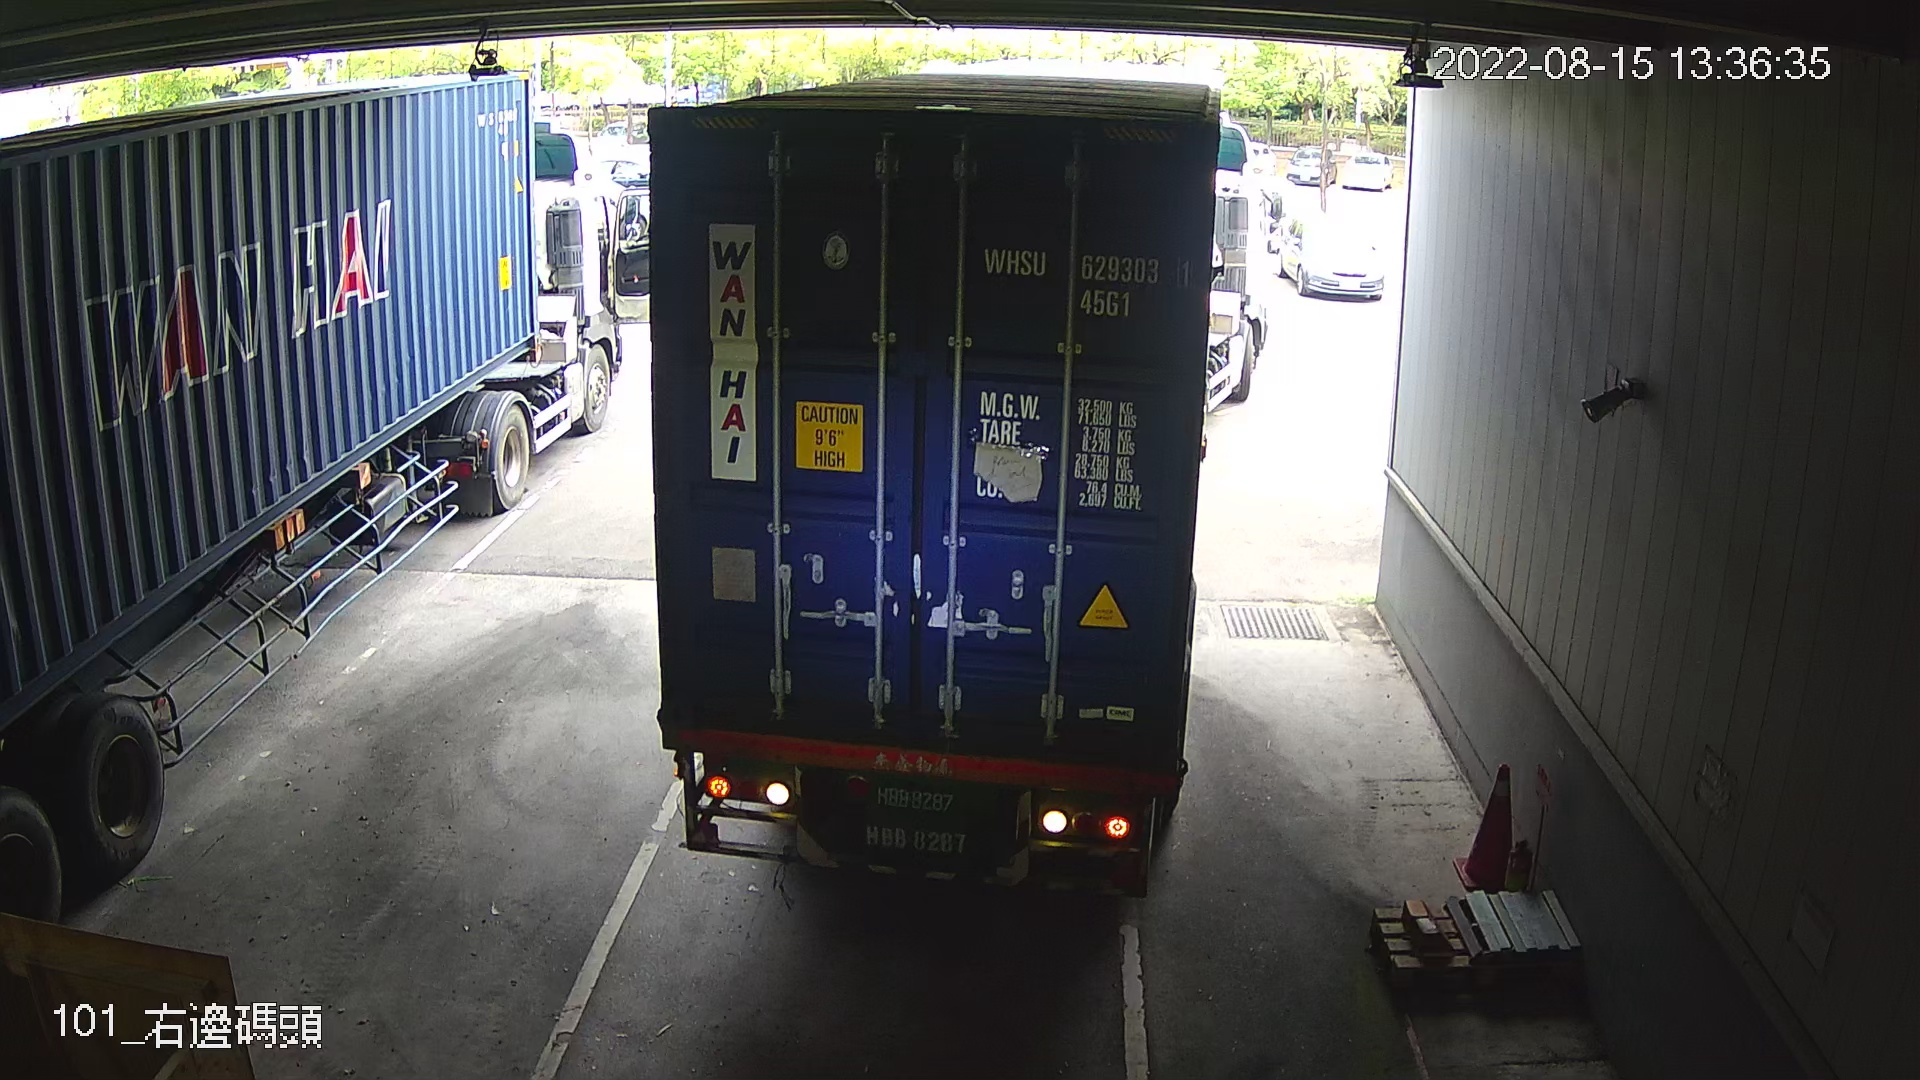container: (973, 233, 1201, 327)
